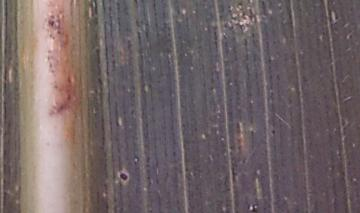tarspot: (117, 170, 128, 181), (247, 203, 258, 213), (46, 17, 56, 27), (96, 76, 104, 85), (269, 127, 277, 136), (171, 149, 177, 157)
